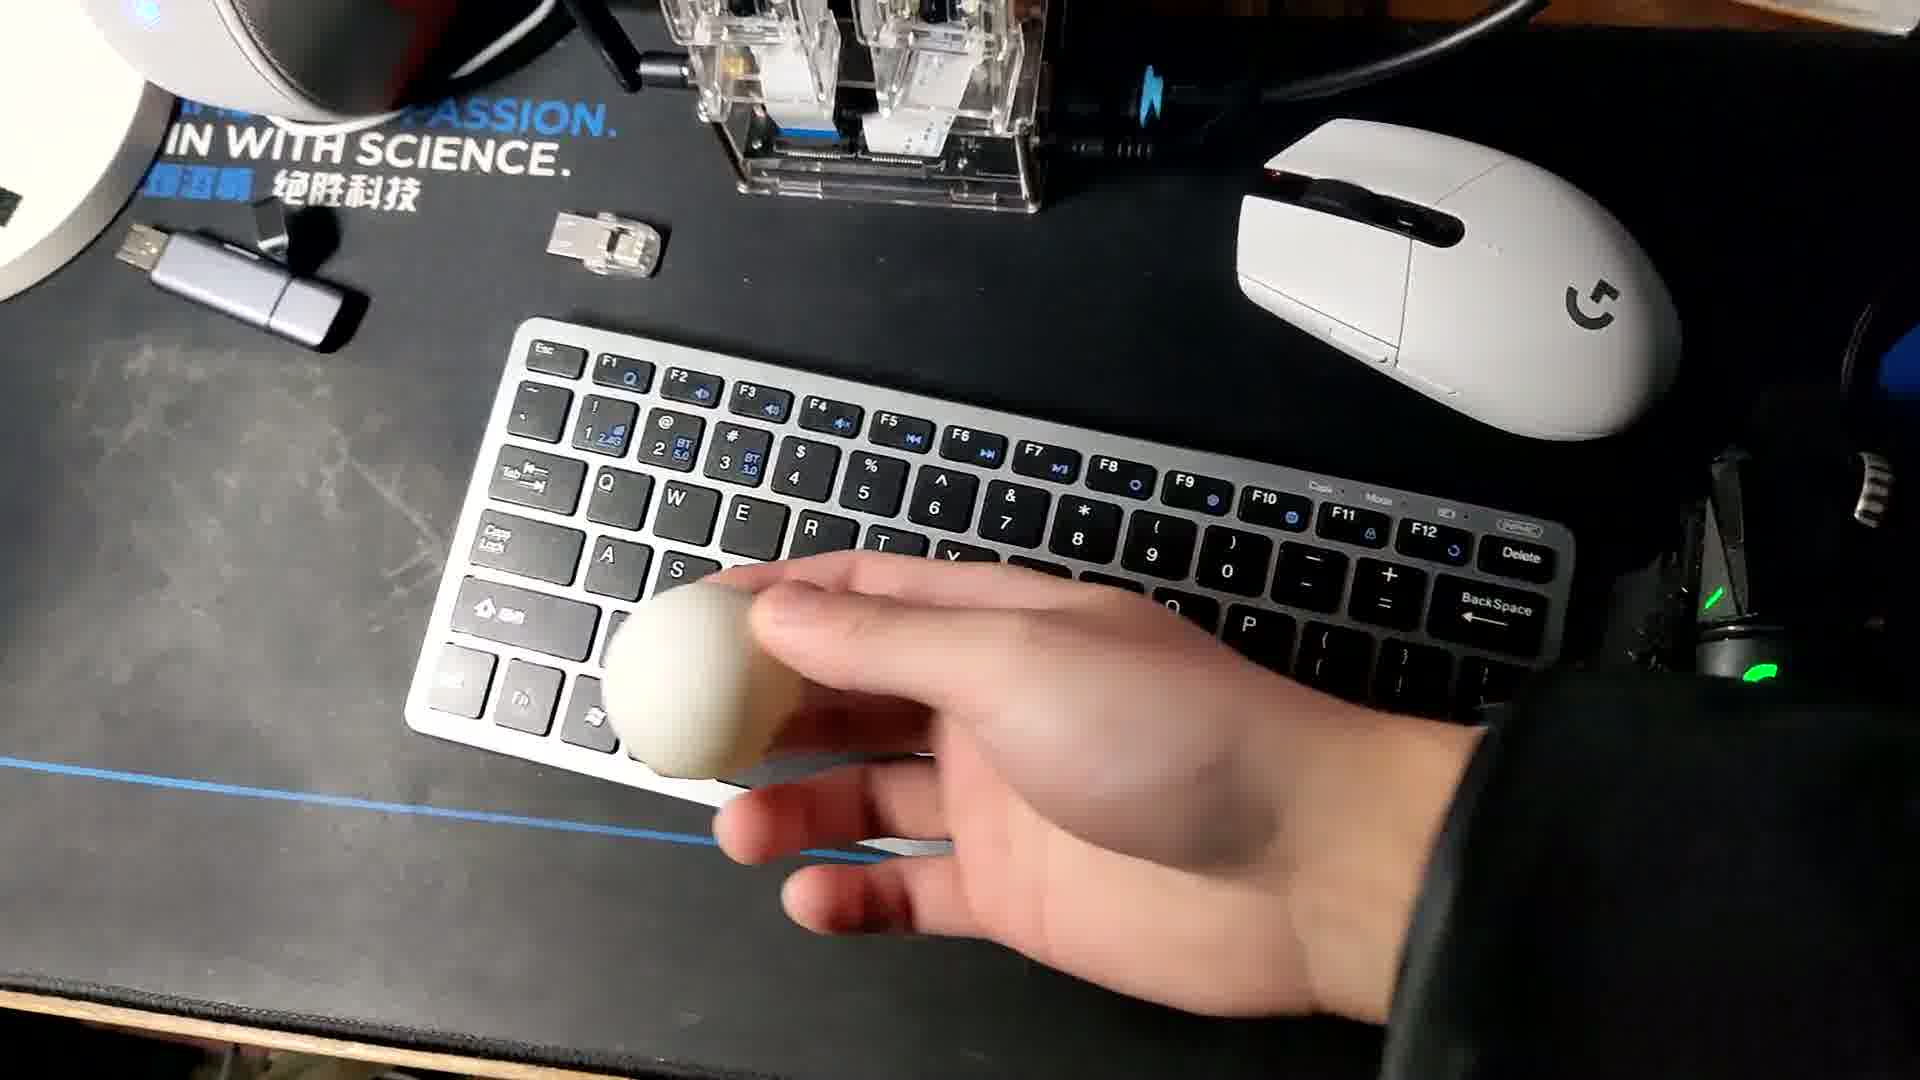Ball: (600, 585, 808, 791)
